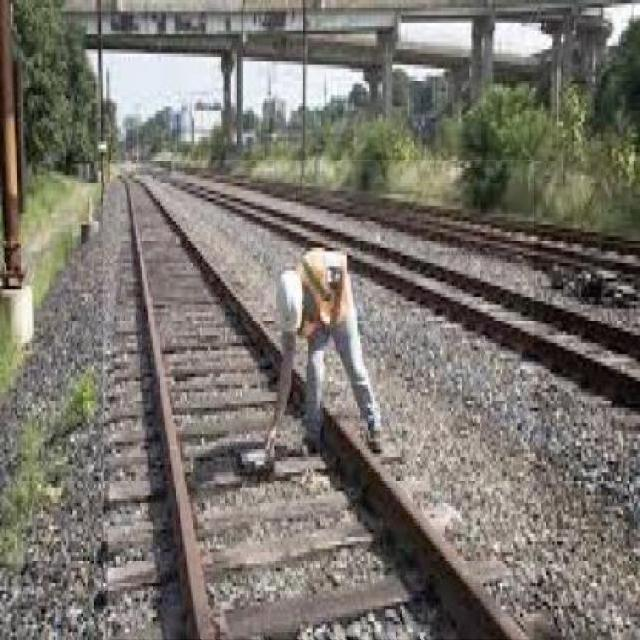rail: (105, 162, 535, 640)
